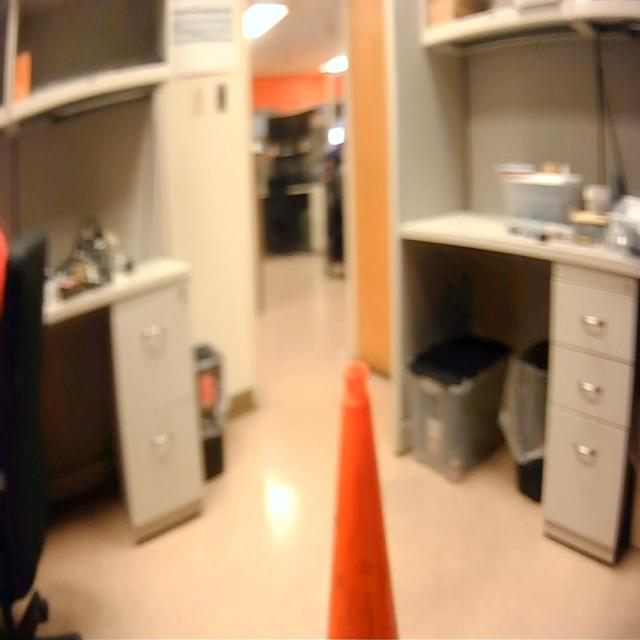traffic cone: (319, 348, 411, 640)
